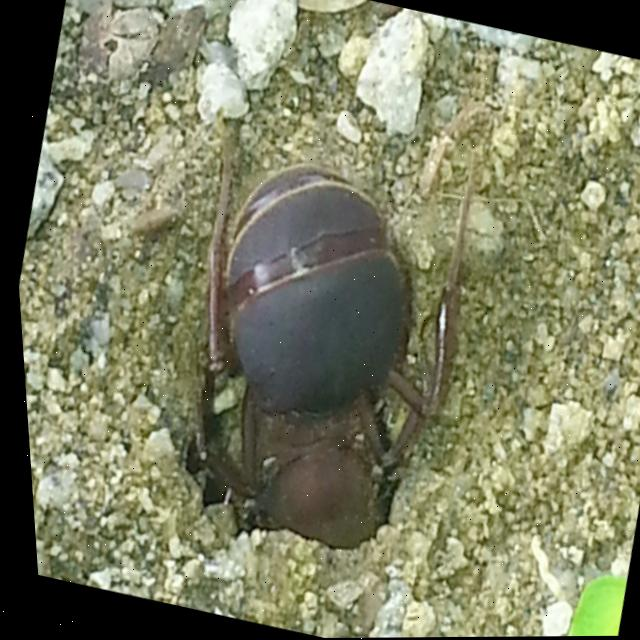Alive-Female-Dealate: (115, 91, 515, 620)
